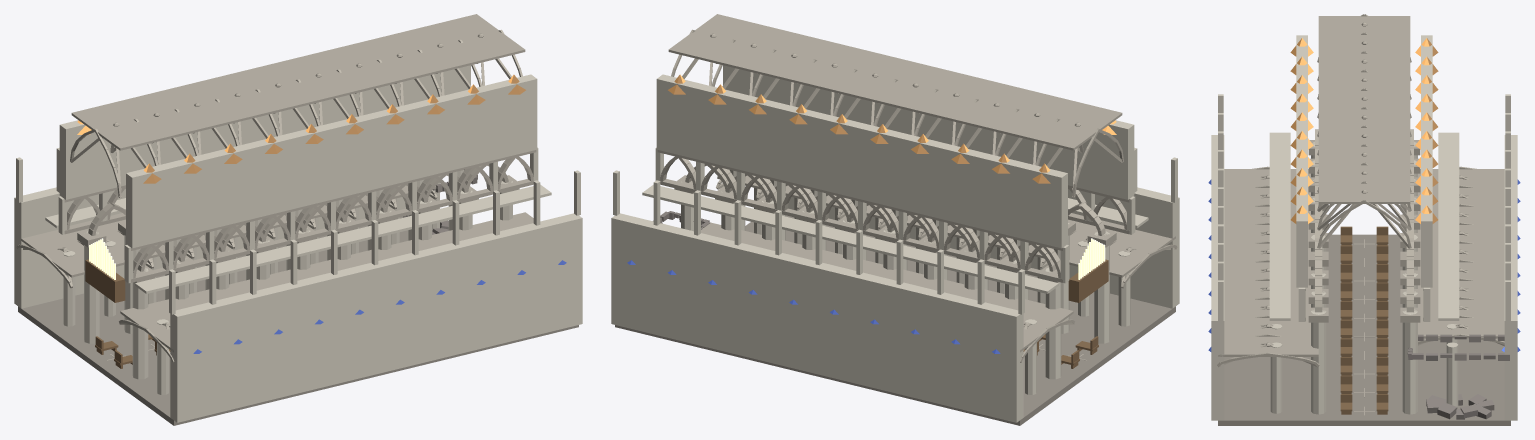
The model's file is 02_nave_burnt.glb.
The picture shows the model from 3 angles, left to right: view 1: azimuth 30°, elevation 25°; view 2: azimuth 150°, elevation 25°; view 3: azimuth 270°, elevation 25°; orthographic projection. The views are drawn at different scales.
Visible parts, largest first — view 1: nave_burnt_stone, nave_burnt_stoneshaded_nocol, nave_burnt_stoneshaded, nave_burnt_stonedark, nave_burnt_glasswarm_nocol, nave_burnt_oak, nave_burnt_gold; view 2: nave_burnt_stone, nave_burnt_stoneshaded_nocol, nave_burnt_stoneshaded, nave_burnt_stonedark, nave_burnt_glasswarm_nocol, nave_burnt_oak, nave_burnt_gold; view 3: nave_burnt_stoneshaded_nocol, nave_burnt_stone, nave_burnt_stonedark, nave_burnt_oak, nave_burnt_glasswarm_nocol, nave_burnt_stoneshaded, nave_burnt_fsoot, nave_burnt_fsoot_nocol, nave_burnt_glassblue_nocol.
Boxes of the visible parts, <box> form: nave_burnt_stone: <box>14,65,582,422</box>; nave_burnt_stoneshaded_nocol: <box>16,14,533,362</box>; nave_burnt_stoneshaded: <box>64,150,536,282</box>; nave_burnt_stonedark: <box>18,216,578,425</box>; nave_burnt_glasswarm_nocol: <box>77,74,525,183</box>; nave_burnt_oak: <box>85,259,170,368</box>; nave_burnt_gold: <box>89,238,115,279</box>; nave_burnt_stone: <box>611,65,1179,422</box>; nave_burnt_stoneshaded_nocol: <box>668,14,1177,362</box>; nave_burnt_stoneshaded: <box>657,150,1129,282</box>; nave_burnt_stonedark: <box>615,215,1175,425</box>; nave_burnt_glasswarm_nocol: <box>668,74,1116,183</box>; nave_burnt_oak: <box>1023,259,1108,368</box>; nave_burnt_gold: <box>1078,238,1105,279</box>; nave_burnt_stoneshaded_nocol: <box>1217,14,1504,415</box>; nave_burnt_stone: <box>1211,35,1517,420</box>; nave_burnt_stonedark: <box>1218,234,1510,425</box>; nave_burnt_oak: <box>1340,226,1388,414</box>; nave_burnt_glasswarm_nocol: <box>1290,38,1438,223</box>; nave_burnt_stoneshaded: <box>1305,129,1423,320</box>; nave_burnt_fsoot: <box>1426,394,1494,419</box>; nave_burnt_fsoot_nocol: <box>1407,334,1509,360</box>; nave_burnt_glassblue_nocol: <box>1208,179,1520,351</box>.
Size of what is drawn, in the model's own units: 60.7 by 34.1 by 42.6.
